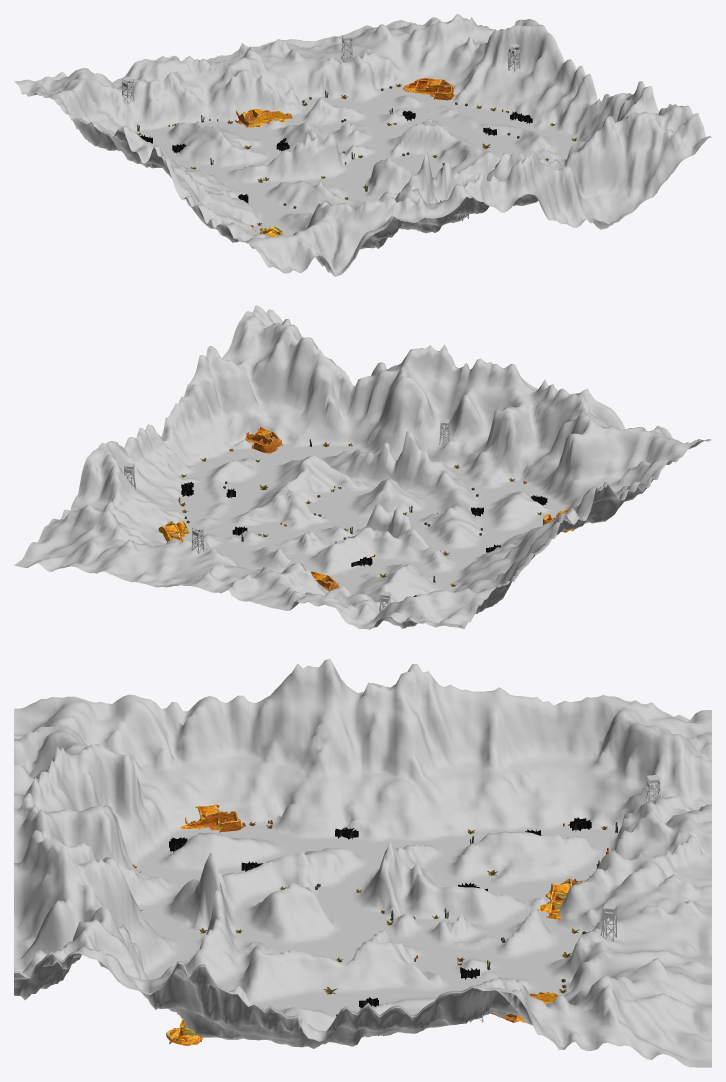
The model's file is HellmireMap.fbx.
3 renders of one model, top to bottom at view 1: azimuth 30°, elevation 25°; view 2: azimuth 150°, elevation 25°; view 3: azimuth 270°, elevation 25°, orthographic. The views are drawn at different scales.
Visible parts, largest first — view 1: Hellmire_Terrain, Ruines, Ruines.003; view 2: Hellmire_Terrain, Ruines.002; view 3: Hellmire_Terrain, Ruines.001, Ruines.003.
Boxes of the visible parts, bbox=[...] form: Hellmire_Terrain: bbox=[14, 14, 711, 276]; Ruines: bbox=[403, 78, 456, 100]; Ruines.003: bbox=[235, 109, 292, 127]; Hellmire_Terrain: bbox=[14, 305, 711, 629]; Ruines.002: bbox=[245, 427, 283, 453]; Hellmire_Terrain: bbox=[14, 658, 711, 1067]; Ruines.001: bbox=[180, 804, 245, 832]; Ruines.003: bbox=[537, 878, 585, 919].
Size of the model in its own units: 25000 by 4762 by 25000.
